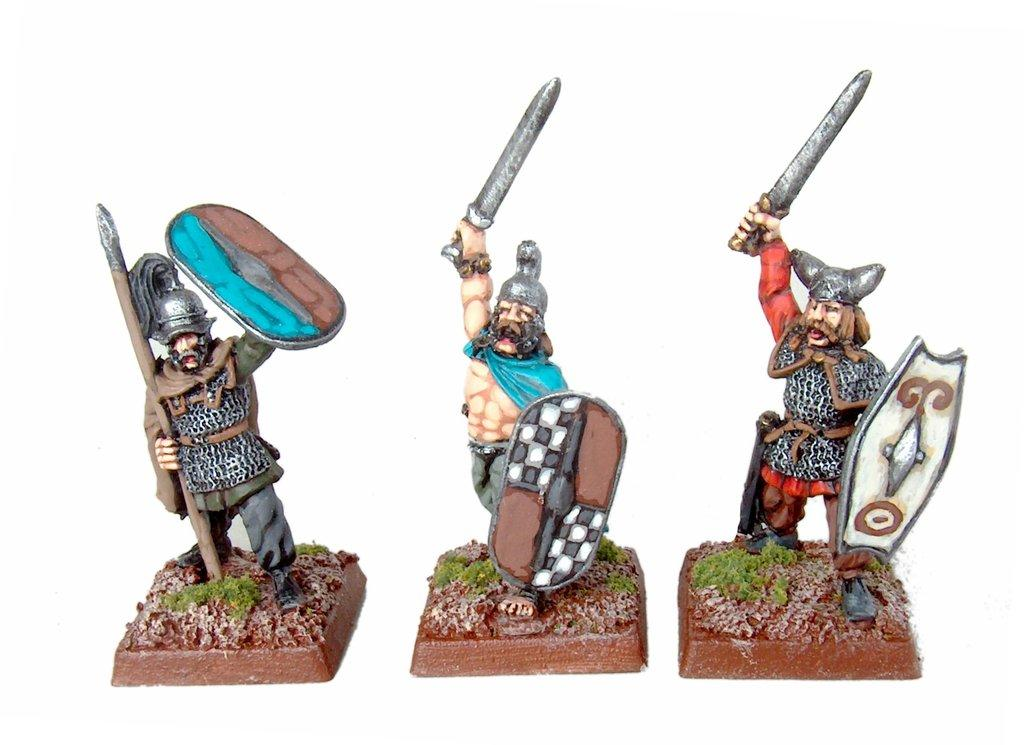Sword: (727, 69, 872, 250), (440, 76, 562, 264)
